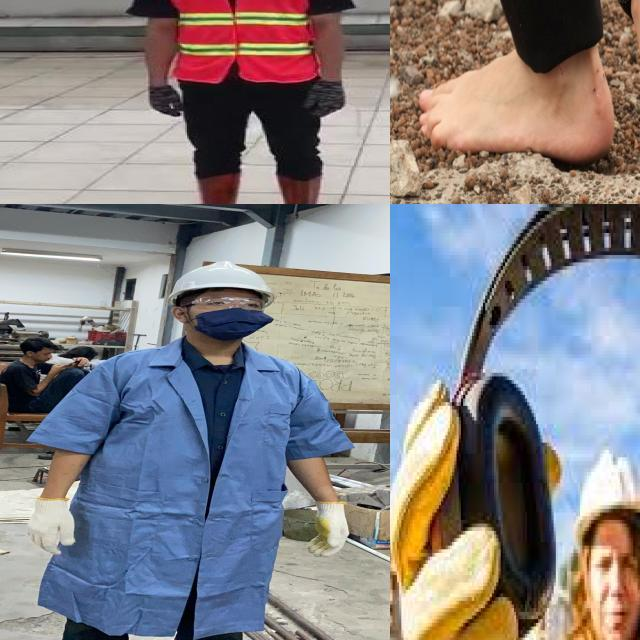Barefoots: (419, 45, 615, 161)
Ear-protection: (434, 350, 557, 640)
boots: (272, 174, 329, 204), (183, 177, 238, 204)
face_mask: (186, 293, 269, 338)
face_nomask: (40, 349, 55, 362)
glasses: (178, 295, 268, 315)
hand_glove: (390, 396, 536, 640), (17, 495, 82, 558), (300, 496, 356, 554), (304, 78, 349, 118), (144, 86, 183, 118)
hand_noglove: (49, 362, 70, 373), (72, 356, 90, 367)
head_helmet: (566, 435, 640, 523), (165, 260, 276, 299)
head_nohelmet: (22, 336, 56, 351)
person: (5, 255, 356, 640), (394, 373, 640, 640), (128, 0, 357, 204), (2, 337, 88, 413)
vest: (165, 0, 322, 81)
